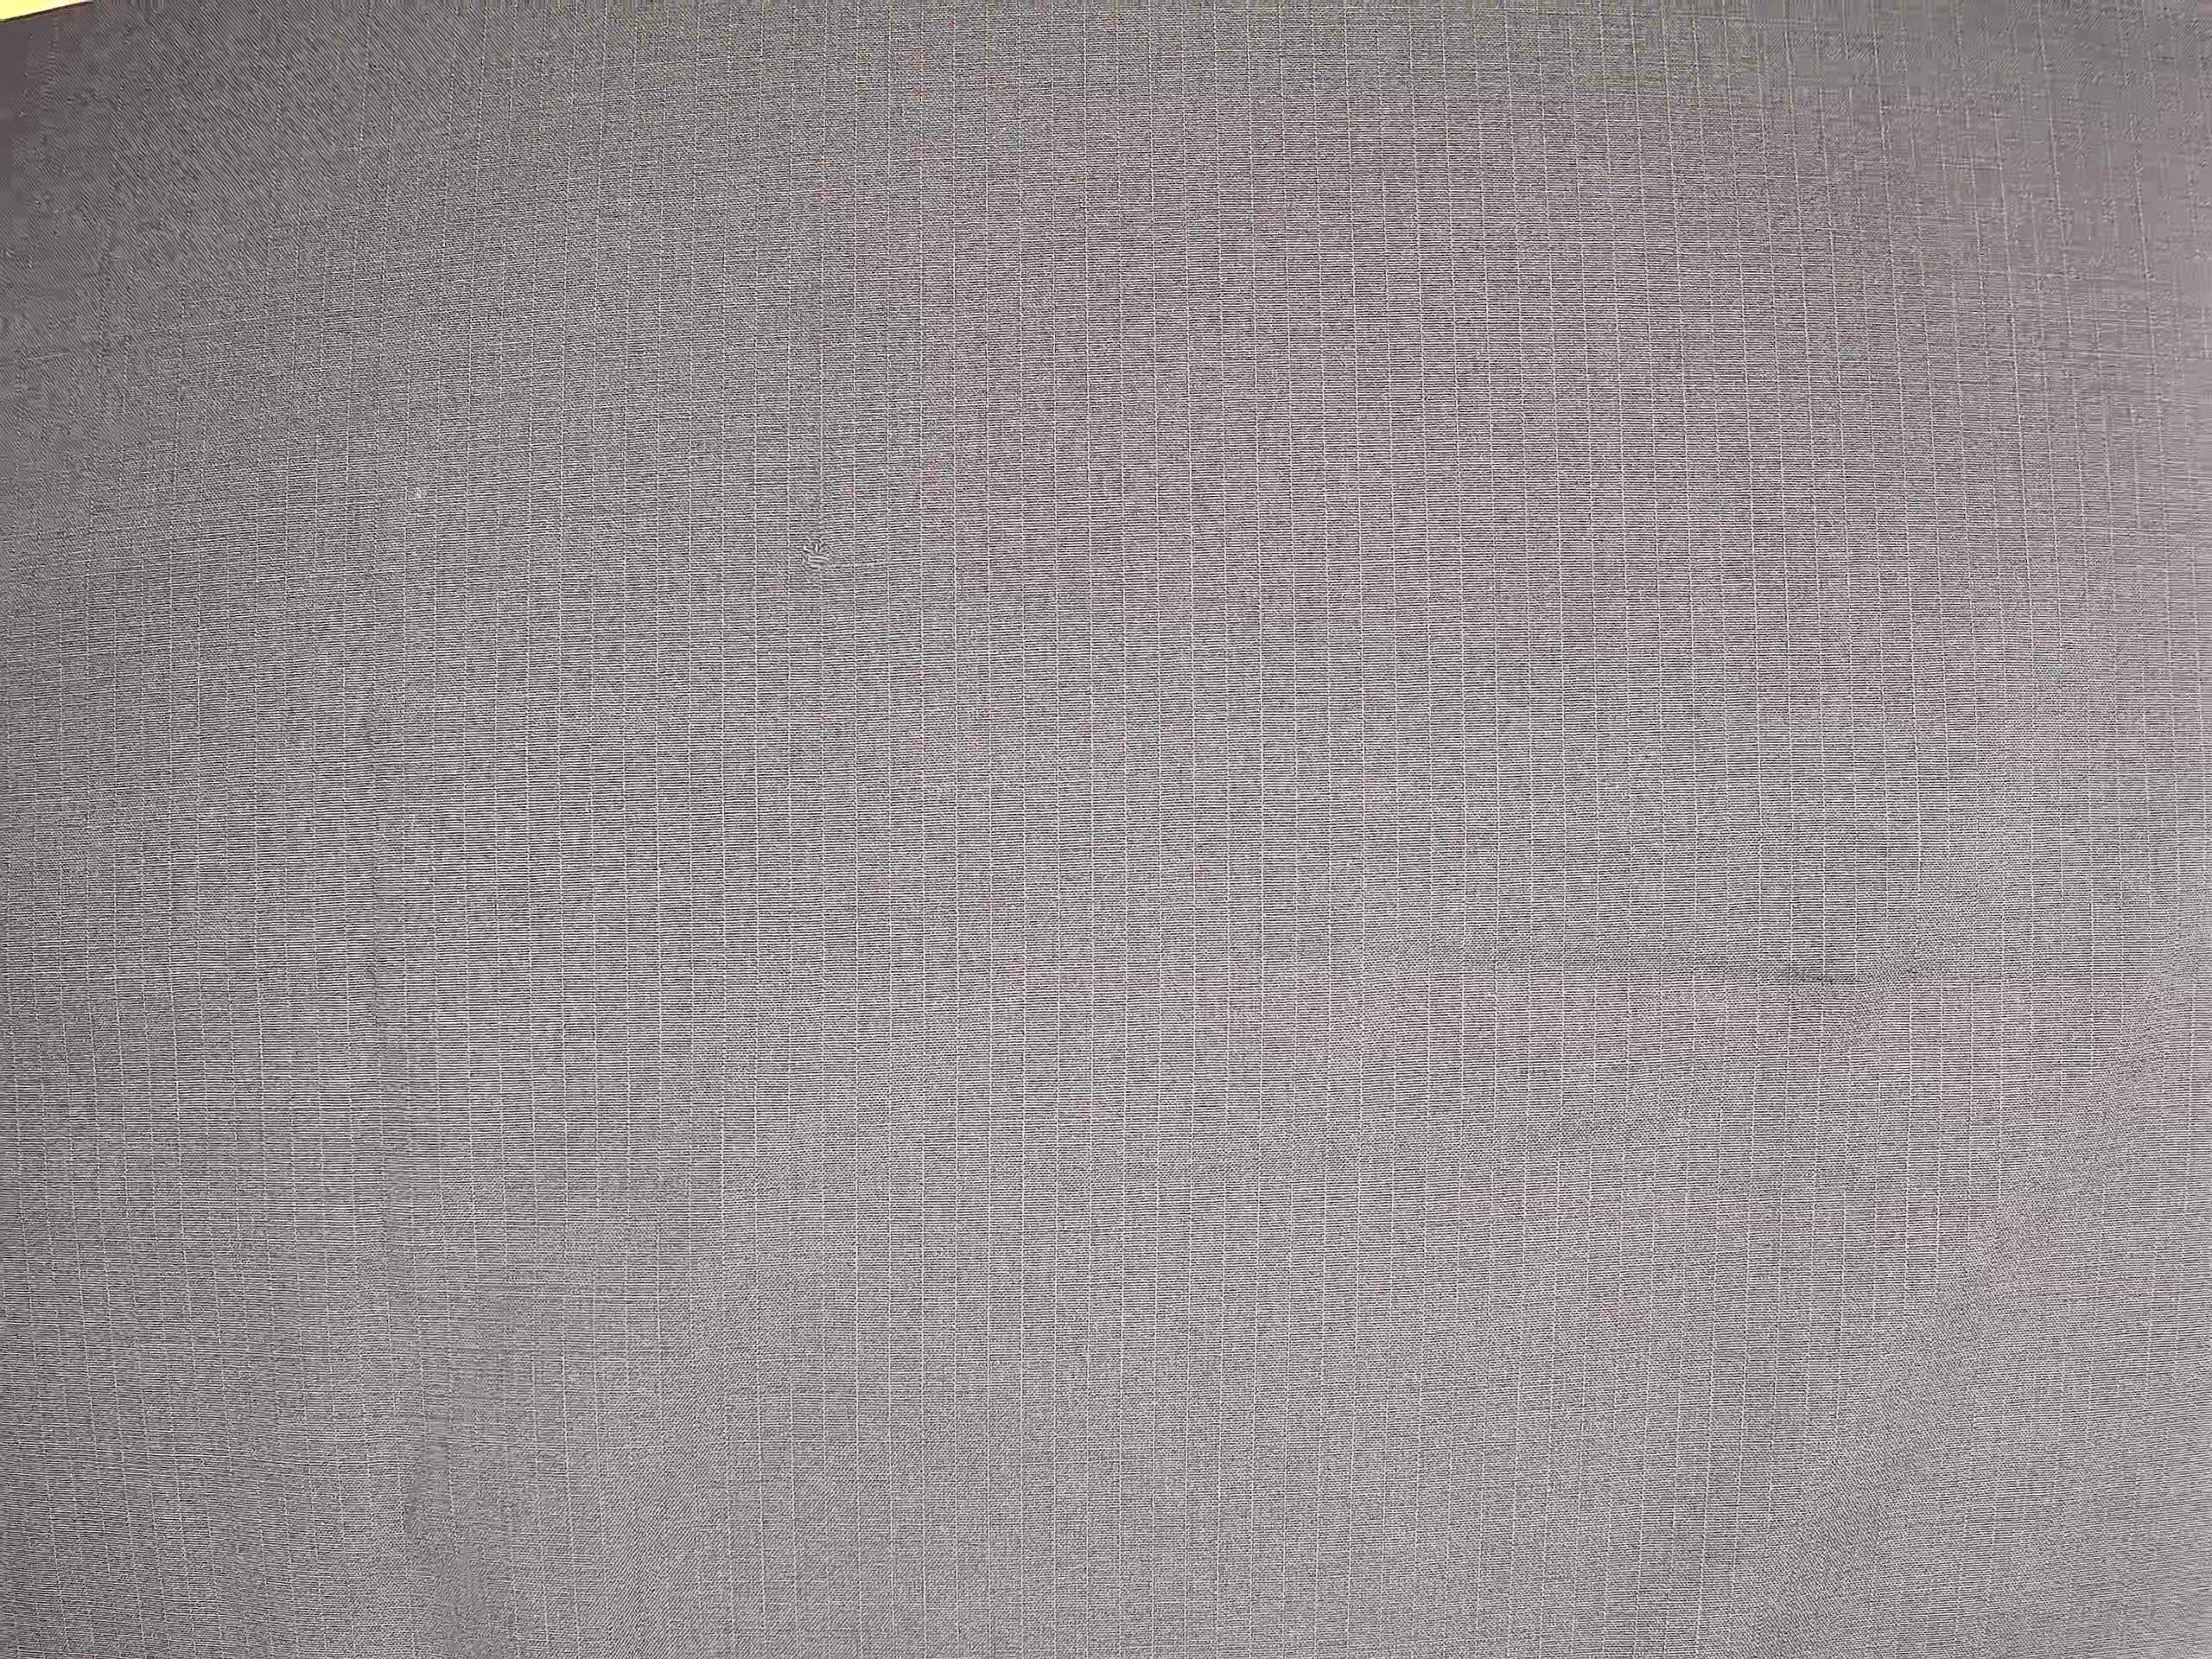knots: (787, 519, 846, 592)
